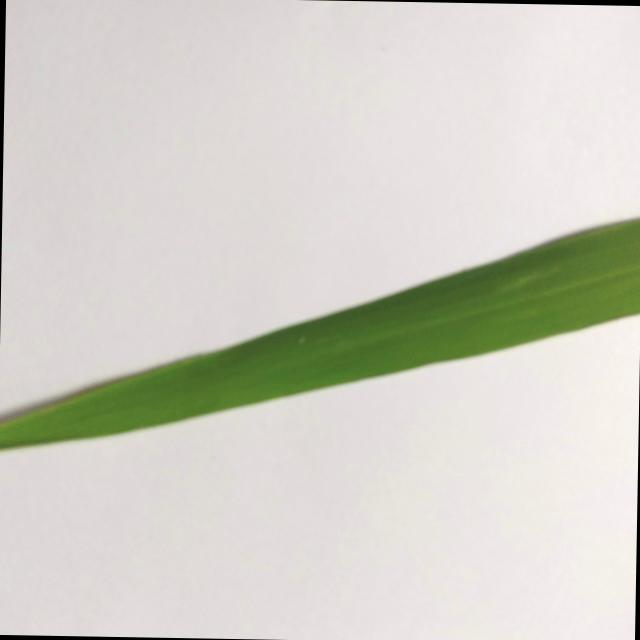Rice_Healthy: (0, 218, 640, 449)
